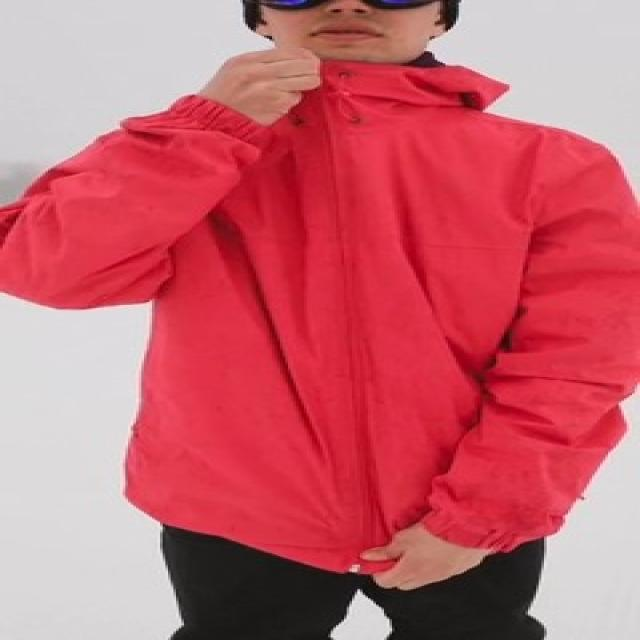Jacket_Wearer: (0, 52, 640, 564)
Person: (0, 0, 640, 640)
